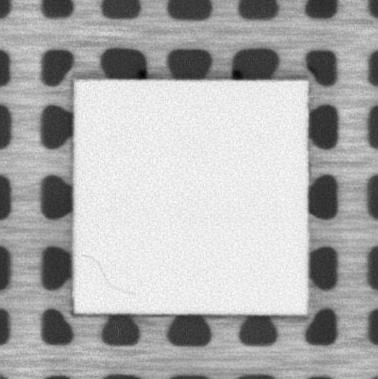DIE_CRACK: (83, 253, 134, 296)
